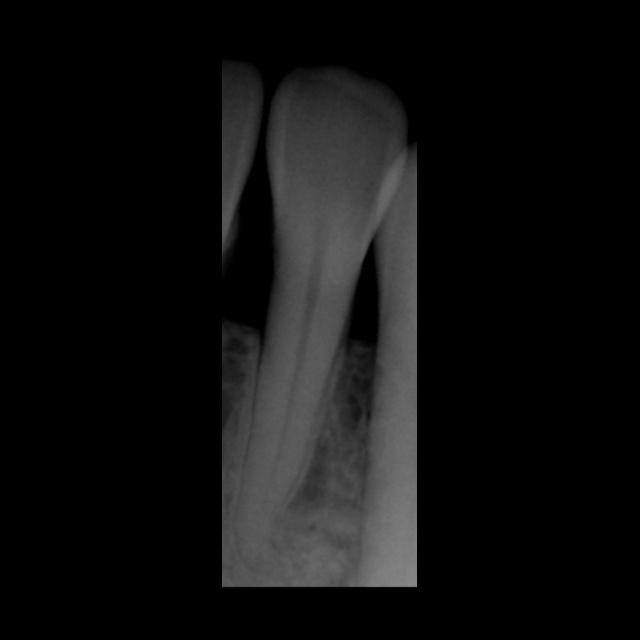tooth: (236, 66, 412, 568)
